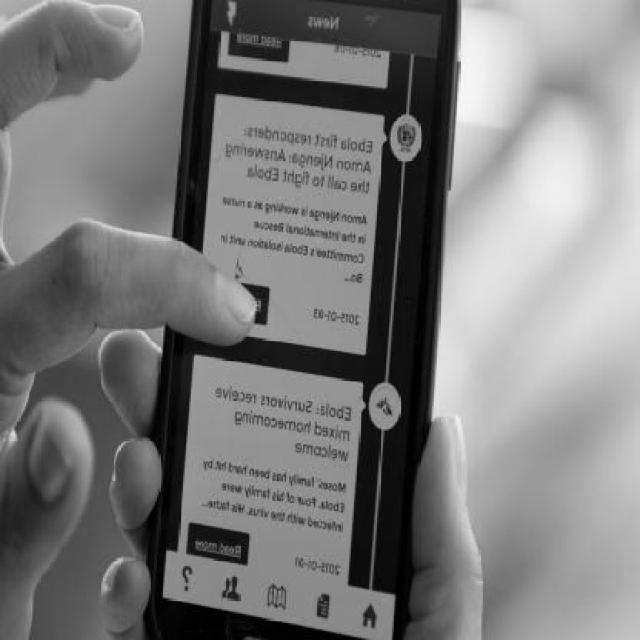fake: (118, 0, 454, 628)
